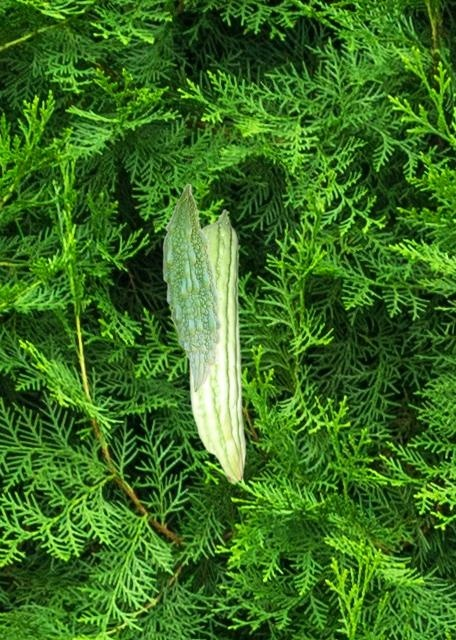ampalaya: (187, 208, 247, 483), (160, 183, 223, 395)
